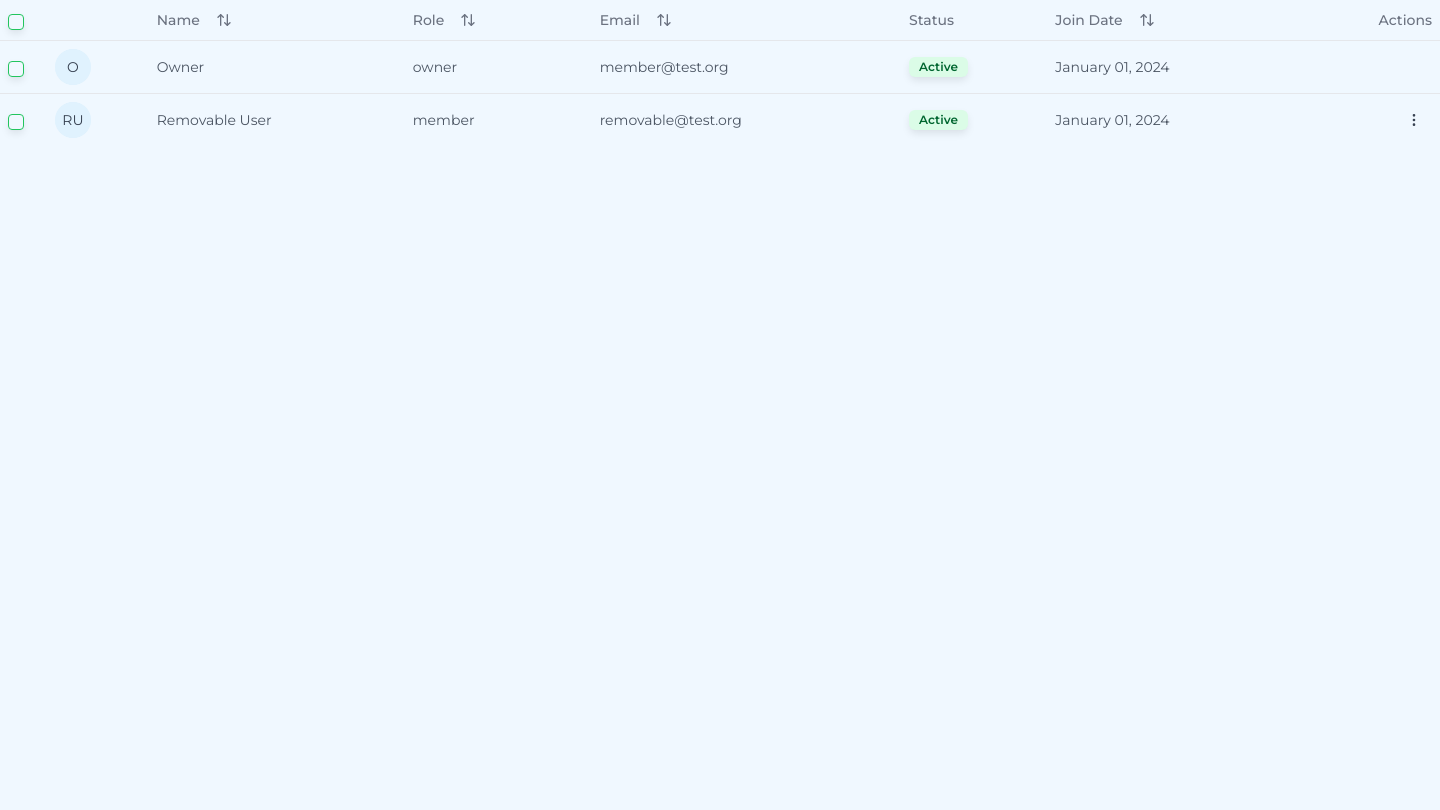
Test: MembersTable › removes a member from the members table after confirmation
Click the button named "actions for removable user".
click(1414, 120)  # box x1=1396 y1=102 x2=1432 y2=138
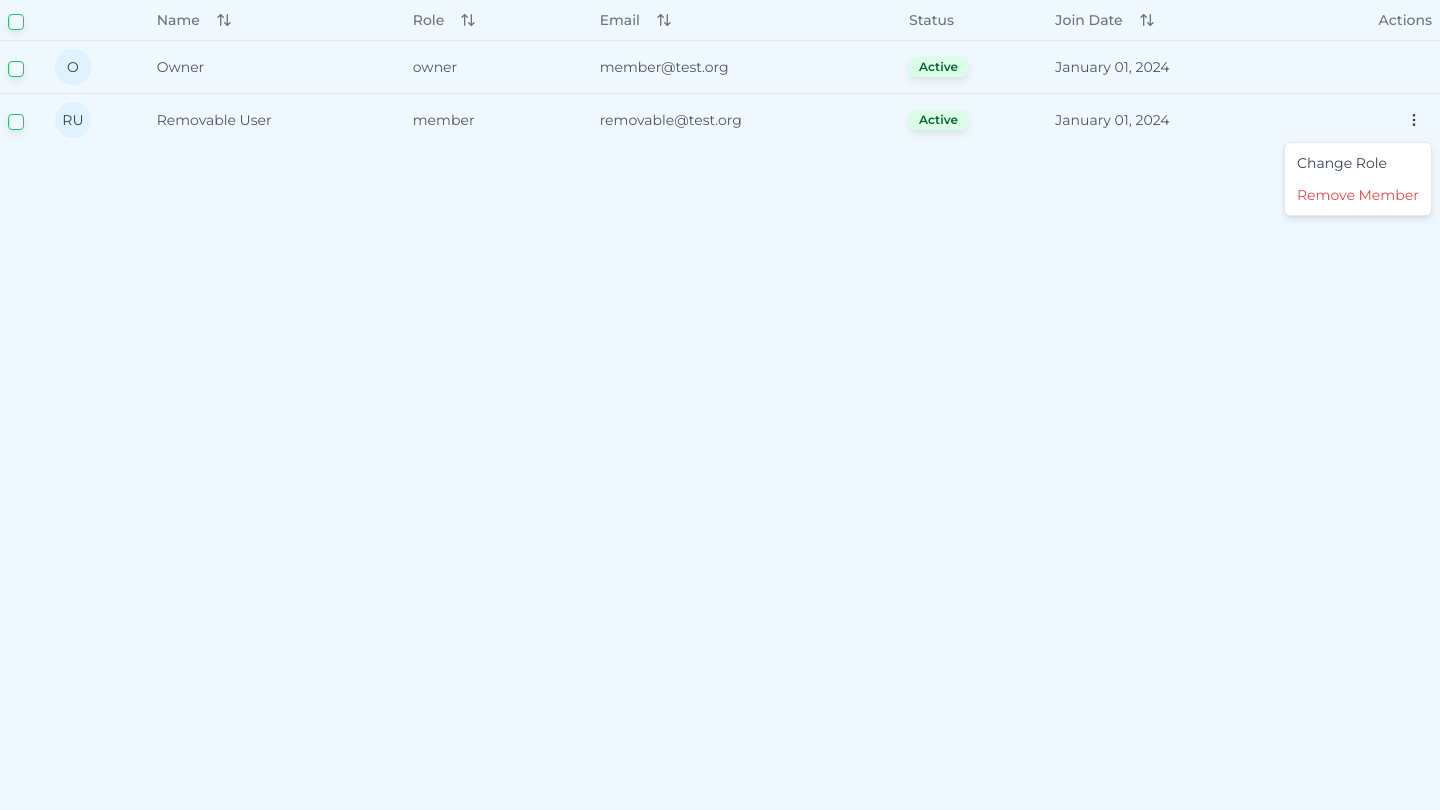
Click the menu item "Remove Member".
click(1358, 195)  # box x1=1297 y1=186 x2=1419 y2=204
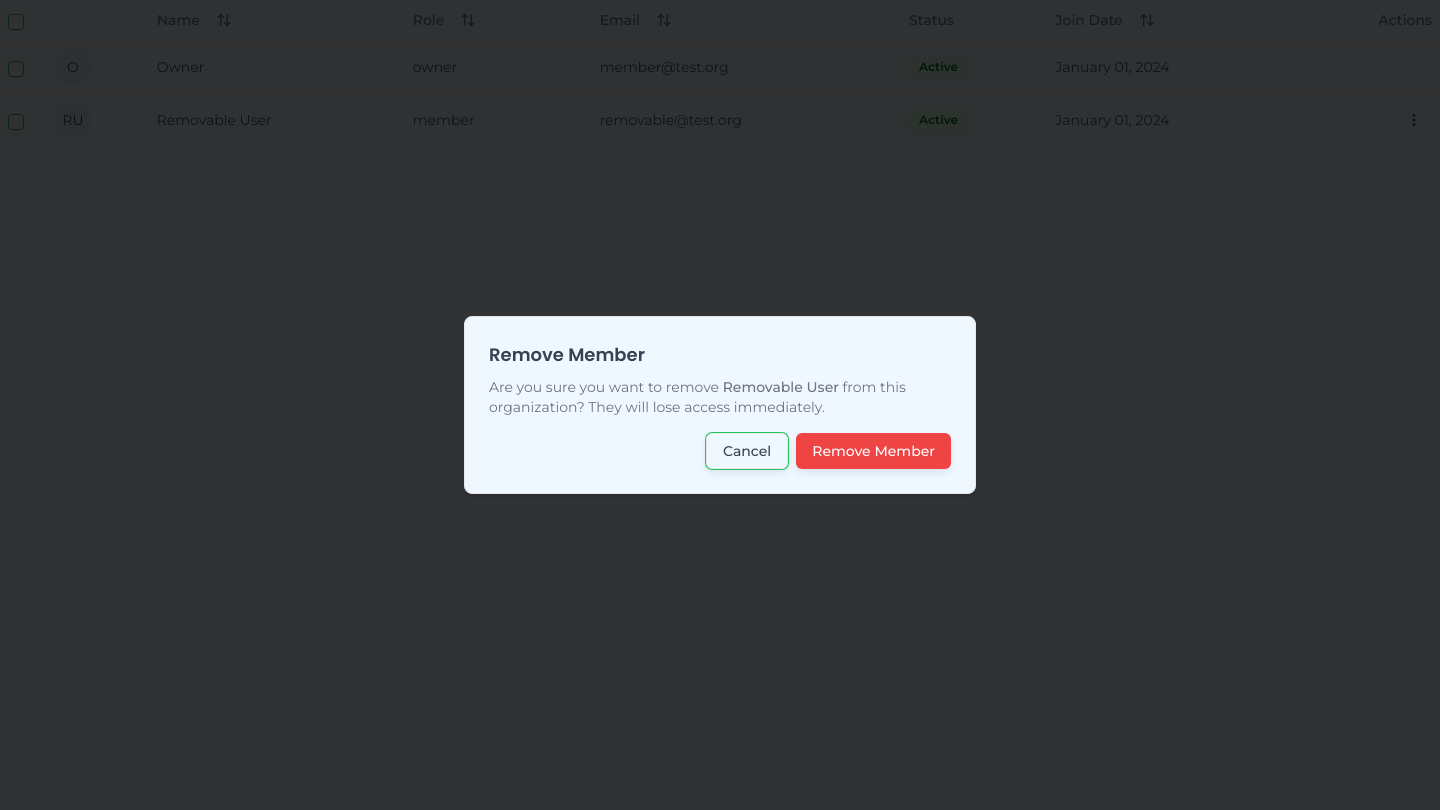
Click the button "Remove Member".
click(874, 451)  # box x1=796 y1=433 x2=951 y2=469
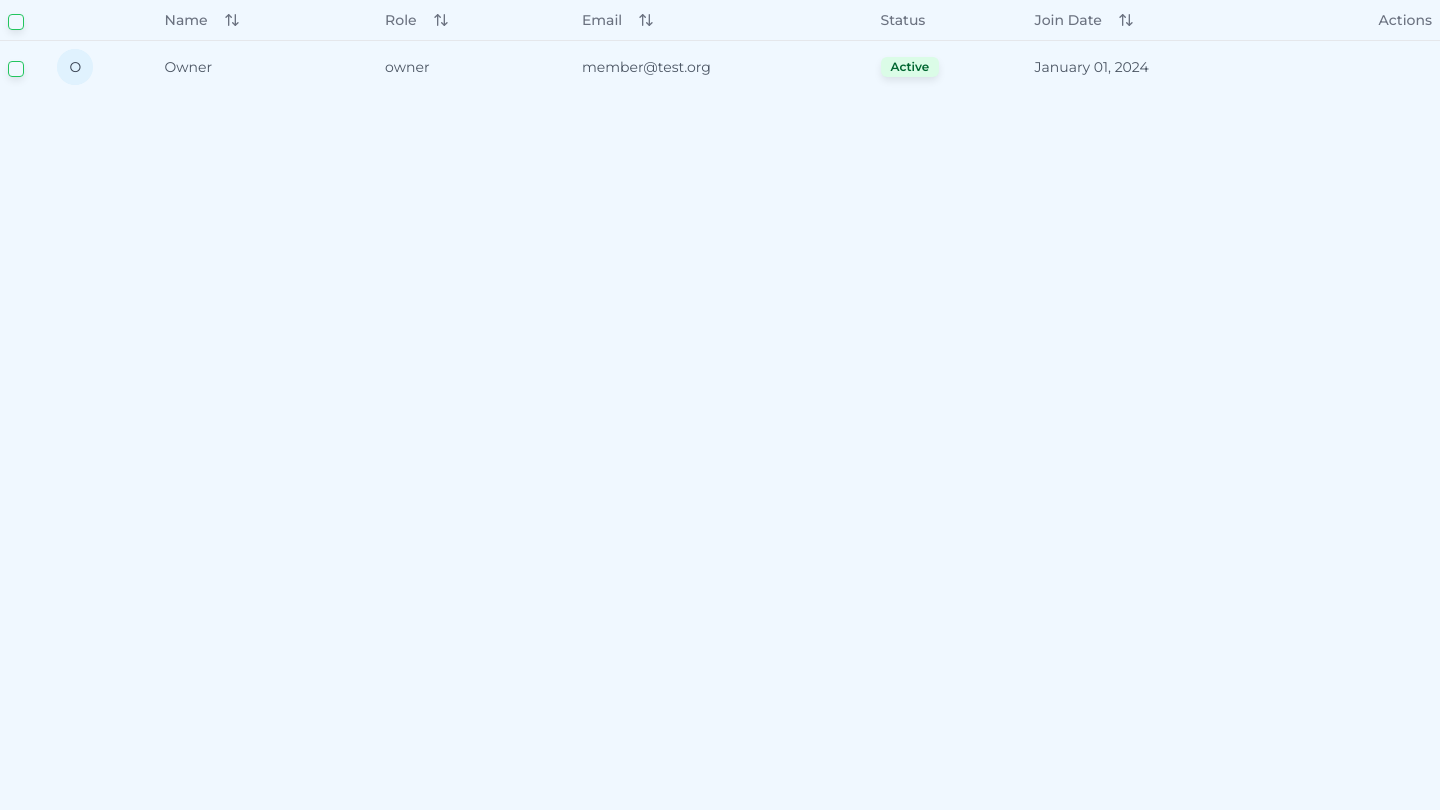
Check: the text "Removable User" is gone
